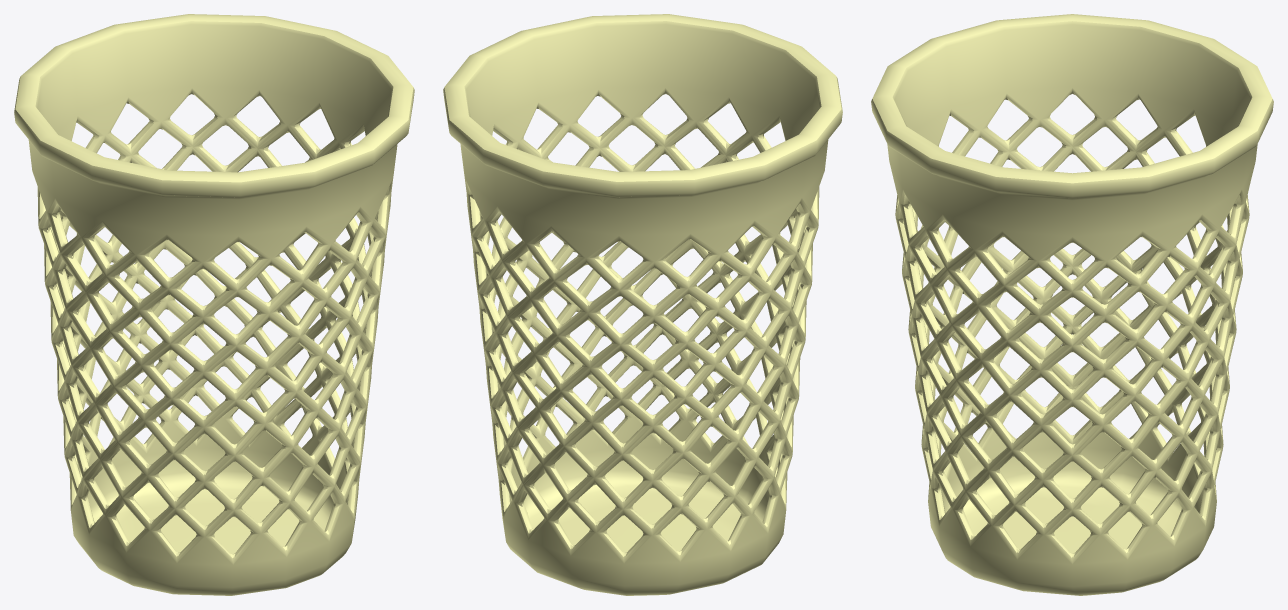
The model's file is MangaKa Props - M_R_InteriorProps_Bin_01.glb.
The picture shows the model from 3 angles, left to right: view 1: azimuth 30°, elevation 25°; view 2: azimuth 150°, elevation 25°; view 3: azimuth 270°, elevation 25°; orthographic projection.
Visible parts, largest first — view 1: M_R_InteriorProps_Bin_01_blueScreen; view 2: M_R_InteriorProps_Bin_01_blueScreen; view 3: M_R_InteriorProps_Bin_01_blueScreen.
Part boxes in pixels (left/top/right/bottom): M_R_InteriorProps_Bin_01_blueScreen: left=14, top=14, right=414, bottom=595; M_R_InteriorProps_Bin_01_blueScreen: left=443, top=14, right=842, bottom=595; M_R_InteriorProps_Bin_01_blueScreen: left=871, top=14, right=1273, bottom=595.
Bounding box in the file's own units: 0.3705 × 0.4549 × 0.3705.
